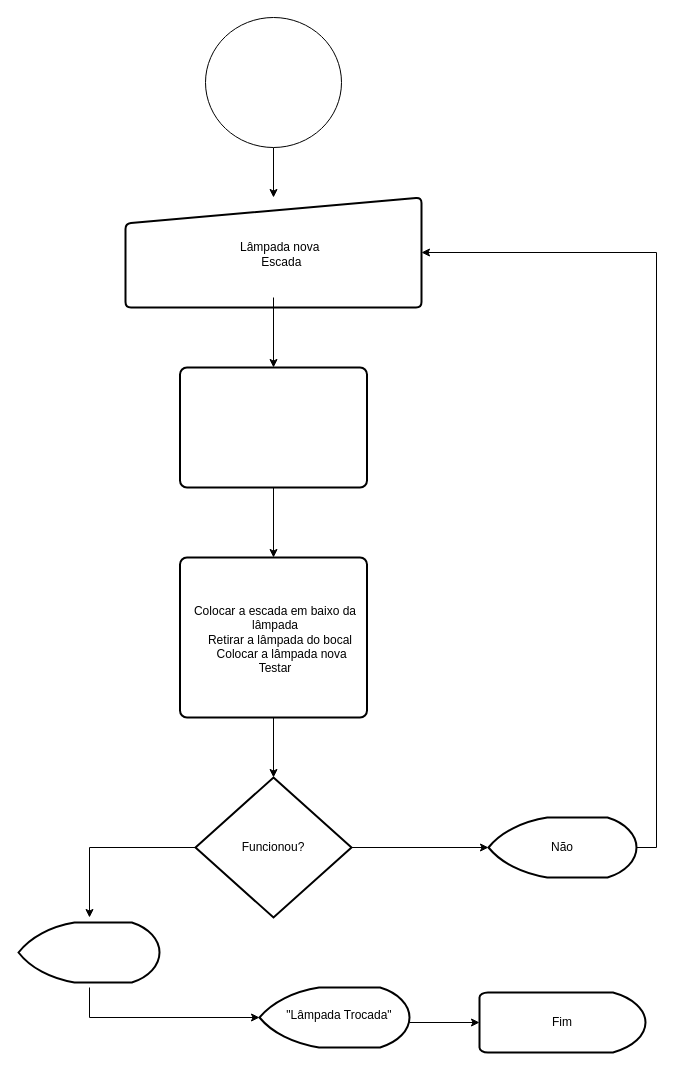
This 682x1071 diagram has some shape labels left out. Here are the shapes that lost their labels. From the top down, the box of each, then its label:
(204, 16, 342, 148): Ínicio
(178, 366, 368, 488): Desligar a Energia Verificar se a lâmpada está realmente queimada
(17, 921, 160, 983): Sim
